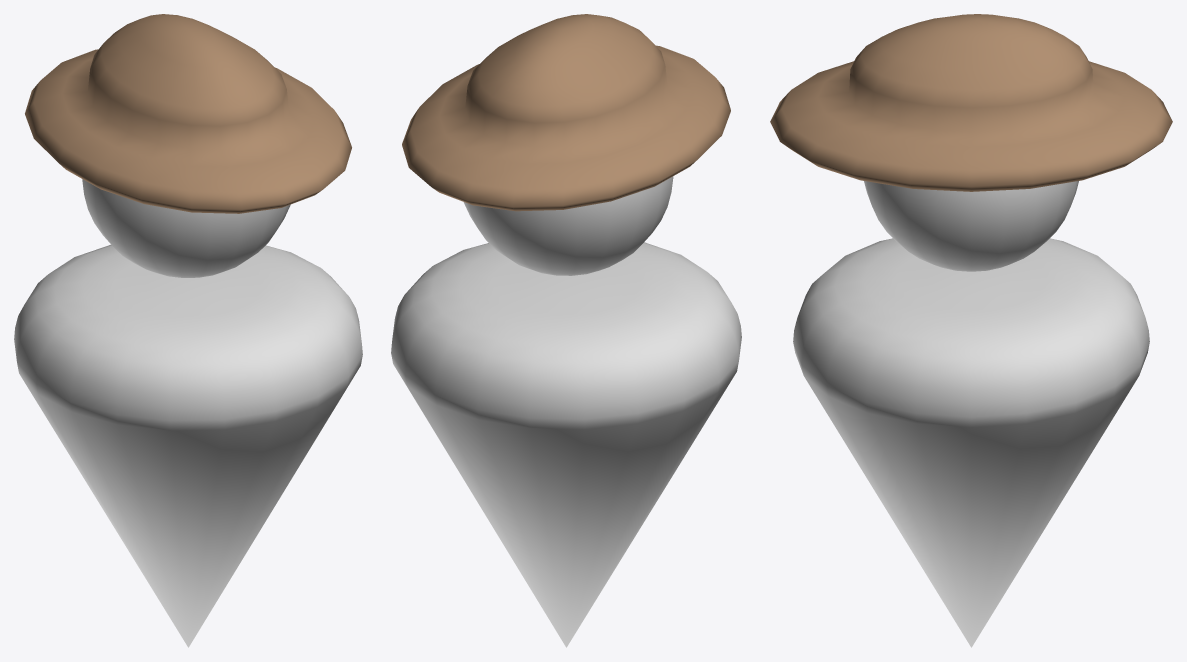
The model's file is Merchant.fbx.
3 views of the same model, side by side, from view 1: azimuth 30°, elevation 25°; view 2: azimuth 150°, elevation 25°; view 3: azimuth 270°, elevation 25° (orthographic).
Visible parts, largest first — view 1: pCone2; view 2: pCone2; view 3: pCone2.
Part boxes in pixels (<box>): pCone2: <box>14,14,362,647</box>; pCone2: <box>391,14,741,647</box>; pCone2: <box>770,14,1172,647</box>.
Bounding box in the file's own units: 1.86 × 3.6 × 2.09.
